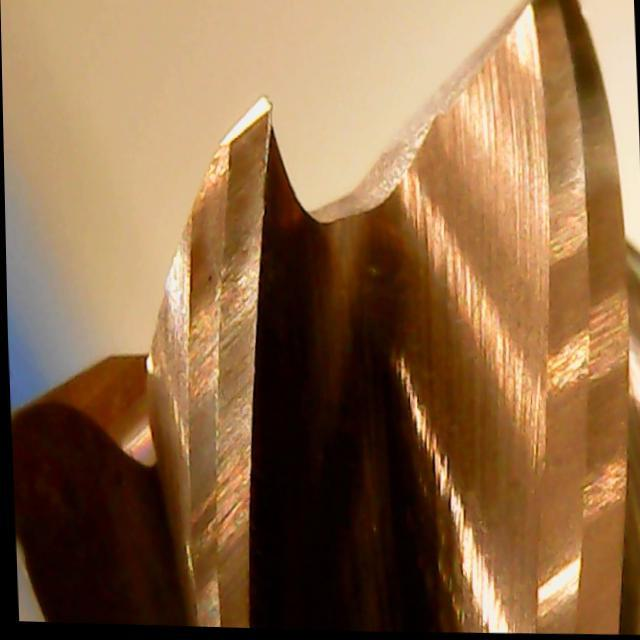Tool-wear-class-0: (159, 89, 297, 378)
